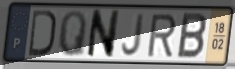B: (175, 11, 209, 61)
D: (27, 8, 57, 58)
J: (120, 12, 146, 58)
N: (85, 9, 122, 61)
Q: (57, 9, 88, 59)
R: (146, 12, 178, 58)
